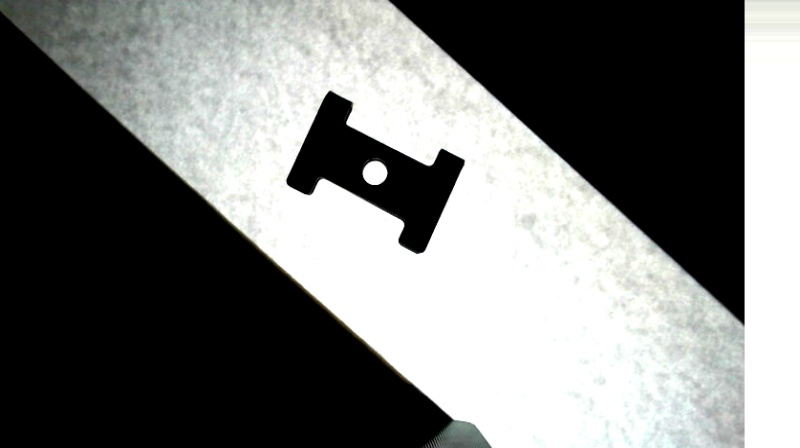O002: (281, 88, 467, 256)
